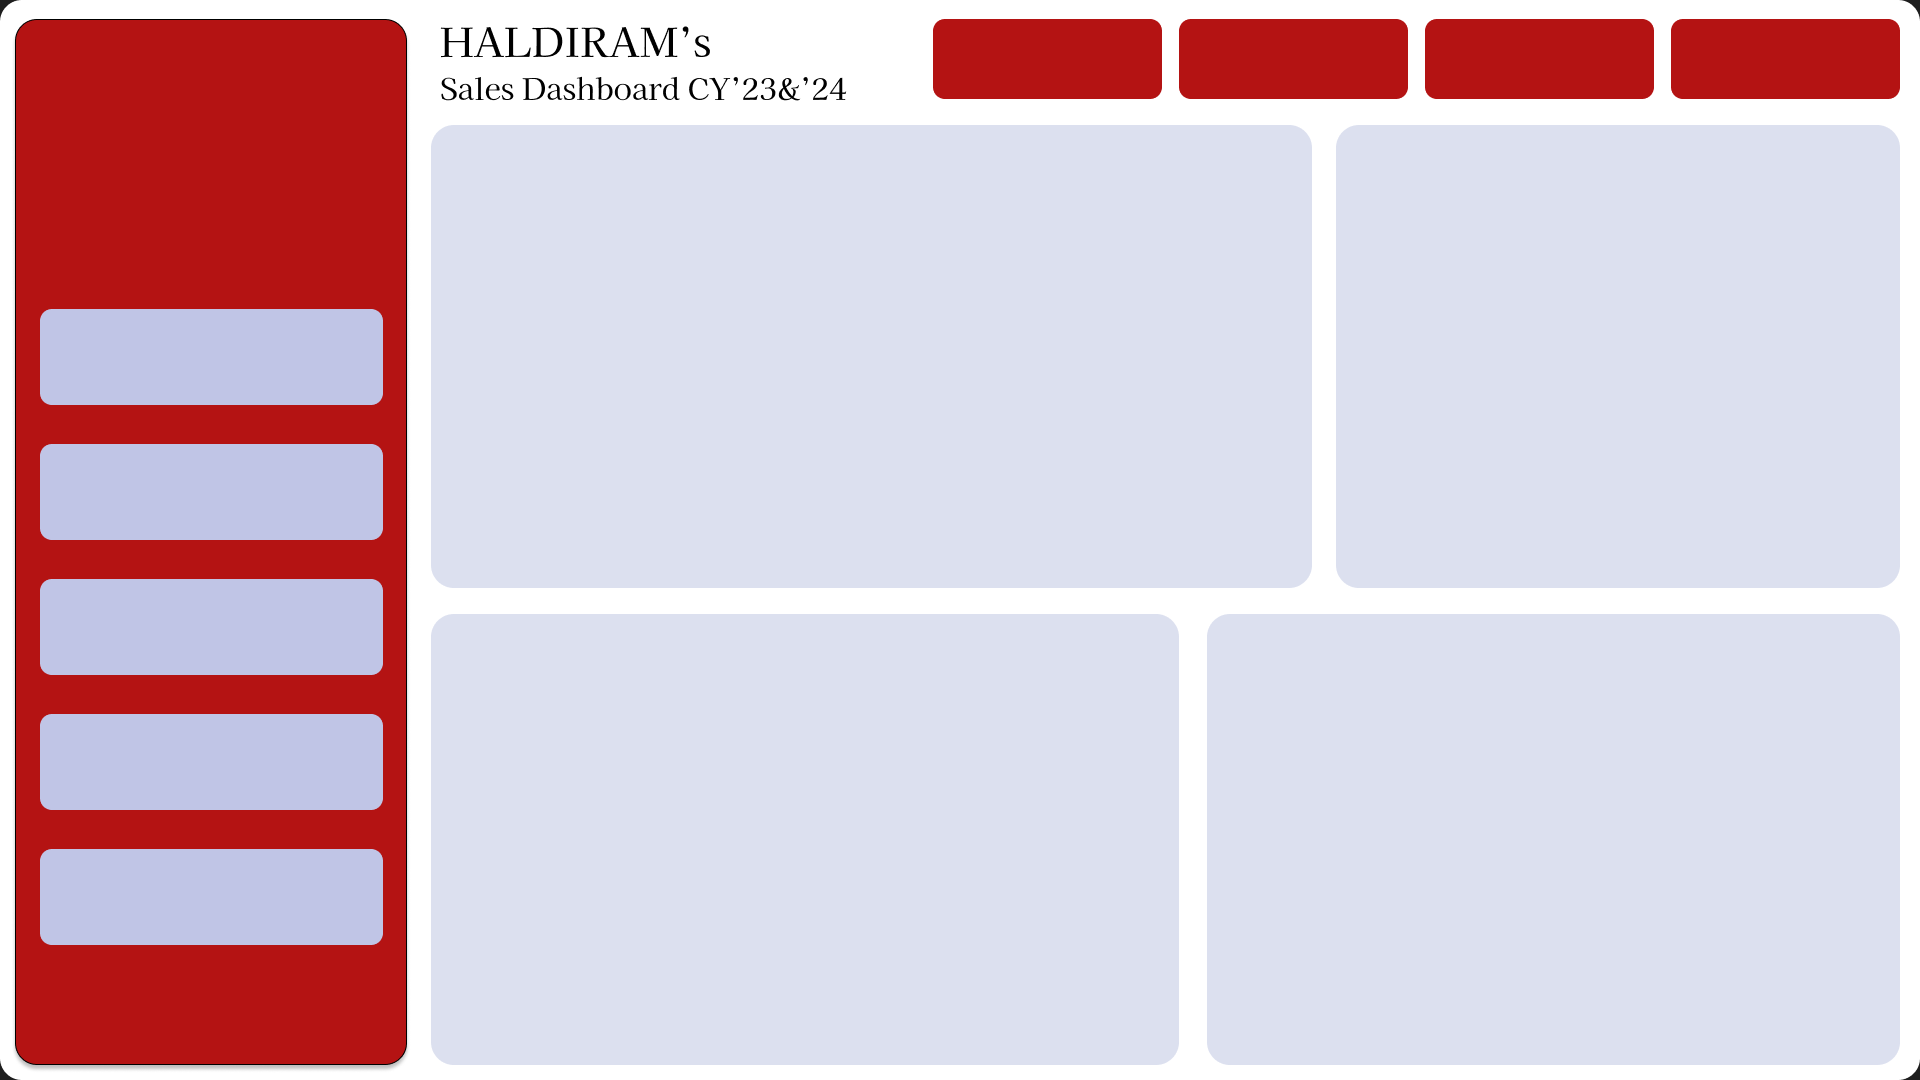

What the dashboard file says about the page in this screenshot:
{"tool":"powerbi","page":{"name":"Page 1","canvas":[1280,720],"ordinal":0},"visuals":[{"type":"image","box":[24.7,6.9,229.2,196.2],"z":0},{"type":"areaChart","title":"Revenue by Months","fields":{"Y":["_Measures_.Total Revenue"],"Category":["FMCG Sales Data.Date.Variation.Date Hierarchy.Month"]},"box":[294.4,89.3,577.9,287.1],"z":1},{"type":"cardVisual","fields":{"Data":["_Measures_.Total Revenue"]},"box":[98.9,196.6,208.7,78.4],"z":1,"group":"g1"},{"type":"cardVisual","fields":{"Data":["_Measures_.Total Profit"]},"box":[98.9,287.1,208.7,78.4],"z":2,"group":"g1"},{"type":"cardVisual","fields":{"Data":["_Measures_.Averrage Profit %"]},"box":[100.1,376.4,208.7,78.4],"z":3,"group":"g1"},{"type":"cardVisual","fields":{"Data":["_Measures_.Unit Sold"]},"box":[100.1,466.8,208.7,78.4],"z":4,"group":"g1"},{"type":"cardVisual","fields":{"Data":["_Measures_.Unit Price"]},"box":[100.1,557.3,208.7,78.4],"z":5,"group":"g1"},{"type":"group","id":"g1","title":"Group 1","box":[98.9,196.6,209.9,439.1],"z":6},{"type":"image","box":[36.2,576.7,62.7,38.6],"z":7},{"type":"image","box":[36.2,486.2,62.7,38.6],"z":8},{"type":"image","box":[36.2,217.2,62.7,38.6],"z":9},{"type":"image","box":[36.2,396.9,62.7,38.6],"z":10},{"type":"image","box":[36.2,307.6,62.7,38.6],"z":11},{"type":"slicer","fields":{"Values":["FMCG Sales Data.Date.Variation.Date Hierarchy.Year"]},"box":[616.5,10.9,161.7,50.7],"z":12},{"type":"slicer","fields":{"Values":["FMCG Sales Data.Date.Variation.Date Hierarchy.Quarter"]},"box":[780.6,10.9,161.7,50.7],"z":13},{"type":"slicer","fields":{"Values":["FMCG Sales Data.Region"]},"box":[944.6,10.9,161.7,50.7],"z":14},{"type":"slicer","fields":{"Values":["FMCG Sales Data.Retailer Type"]},"box":[1108.7,10.9,161.7,50.7],"z":15},{"type":"donutChart","title":"Revenue Share by Retailer type","fields":{"Category":["FMCG Sales Data.Retailer Type"],"Y":["CountNonNull(FMCG Sales Data.Index)"]},"box":[895.2,91.7,372.8,284.7],"z":16},{"type":"clusteredColumnChart","title":"Revenue by Products","fields":{"Y":["CountNonNull(FMCG Sales Data.Index)"],"Category":["FMCG Sales Data.Product"]},"box":[294.4,416.2,485,287.1],"z":17},{"type":"pieChart","title":"Revenue Share by Region","fields":{"Y":["CountNonNull(FMCG Sales Data.Index)"],"Category":["FMCG Sales Data.Region"]},"box":[816.8,416.2,437.9,287.1],"z":18}]}

Visuals, with their boxes in screenshot pixels (x1, y1, x2, y2), scaled from the page's 1280x720 canvas onto the 1920x1080 screenshot:
image: x1=37, y1=10, x2=381, y2=305
"Revenue by Months" areaChart: x1=442, y1=134, x2=1308, y2=565
cardVisual - _Measures_.Total Revenue: x1=148, y1=295, x2=461, y2=412
cardVisual - _Measures_.Total Profit: x1=148, y1=431, x2=461, y2=548
cardVisual - _Measures_.Averrage Profit %: x1=150, y1=565, x2=463, y2=682
cardVisual - _Measures_.Unit Sold: x1=150, y1=700, x2=463, y2=818
cardVisual - _Measures_.Unit Price: x1=150, y1=836, x2=463, y2=954
"Group 1" group: x1=148, y1=295, x2=463, y2=954
image: x1=54, y1=865, x2=148, y2=923
image: x1=54, y1=729, x2=148, y2=787
image: x1=54, y1=326, x2=148, y2=384
image: x1=54, y1=595, x2=148, y2=653
image: x1=54, y1=461, x2=148, y2=519
slicer - FMCG Sales Data.Date.Variation.Date Hierarchy.Year: x1=925, y1=16, x2=1167, y2=92
slicer - FMCG Sales Data.Date.Variation.Date Hierarchy.Quarter: x1=1171, y1=16, x2=1413, y2=92
slicer - FMCG Sales Data.Region: x1=1417, y1=16, x2=1659, y2=92
slicer - FMCG Sales Data.Retailer Type: x1=1663, y1=16, x2=1906, y2=92
"Revenue Share by Retailer type" donutChart: x1=1343, y1=138, x2=1902, y2=565
"Revenue by Products" clusteredColumnChart: x1=442, y1=624, x2=1169, y2=1055
"Revenue Share by Region" pieChart: x1=1225, y1=624, x2=1882, y2=1055
